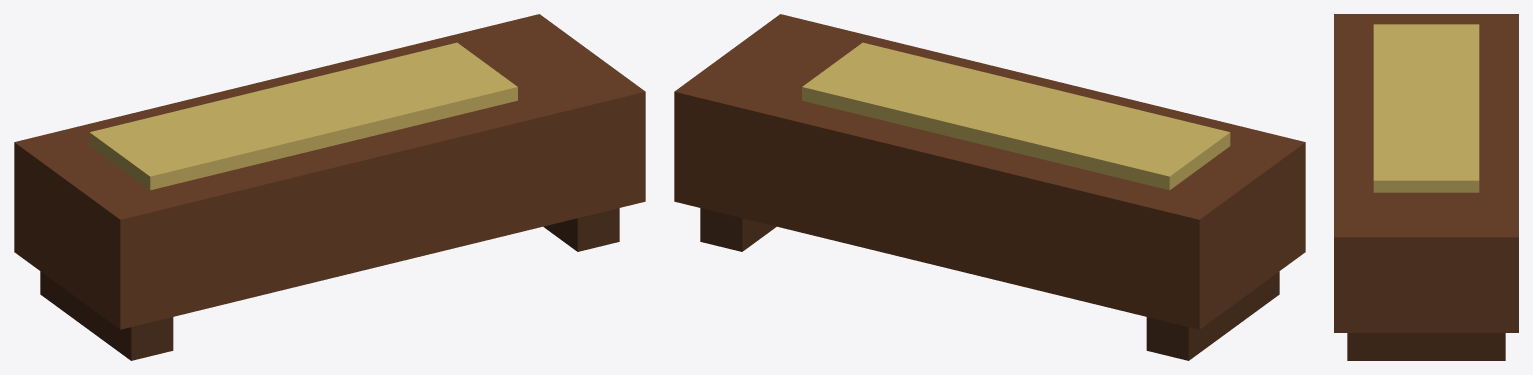
File: xma-trough.glb
3 renders of one model, left to right at view 1: azimuth 30°, elevation 25°; view 2: azimuth 150°, elevation 25°; view 3: azimuth 270°, elevation 25°, orthographic. The views are drawn at different scales.
Parts seen in each view (by area): view 1: box-prop; view 2: box-prop; view 3: box-prop.
Boxes of the visible parts, left/top/right/bottom form: box-prop: left=14, top=14, right=645, bottom=360; box-prop: left=674, top=14, right=1305, bottom=360; box-prop: left=1334, top=14, right=1518, bottom=360.
Bounding box in the file's own units: 2 × 0.6 × 0.7.
